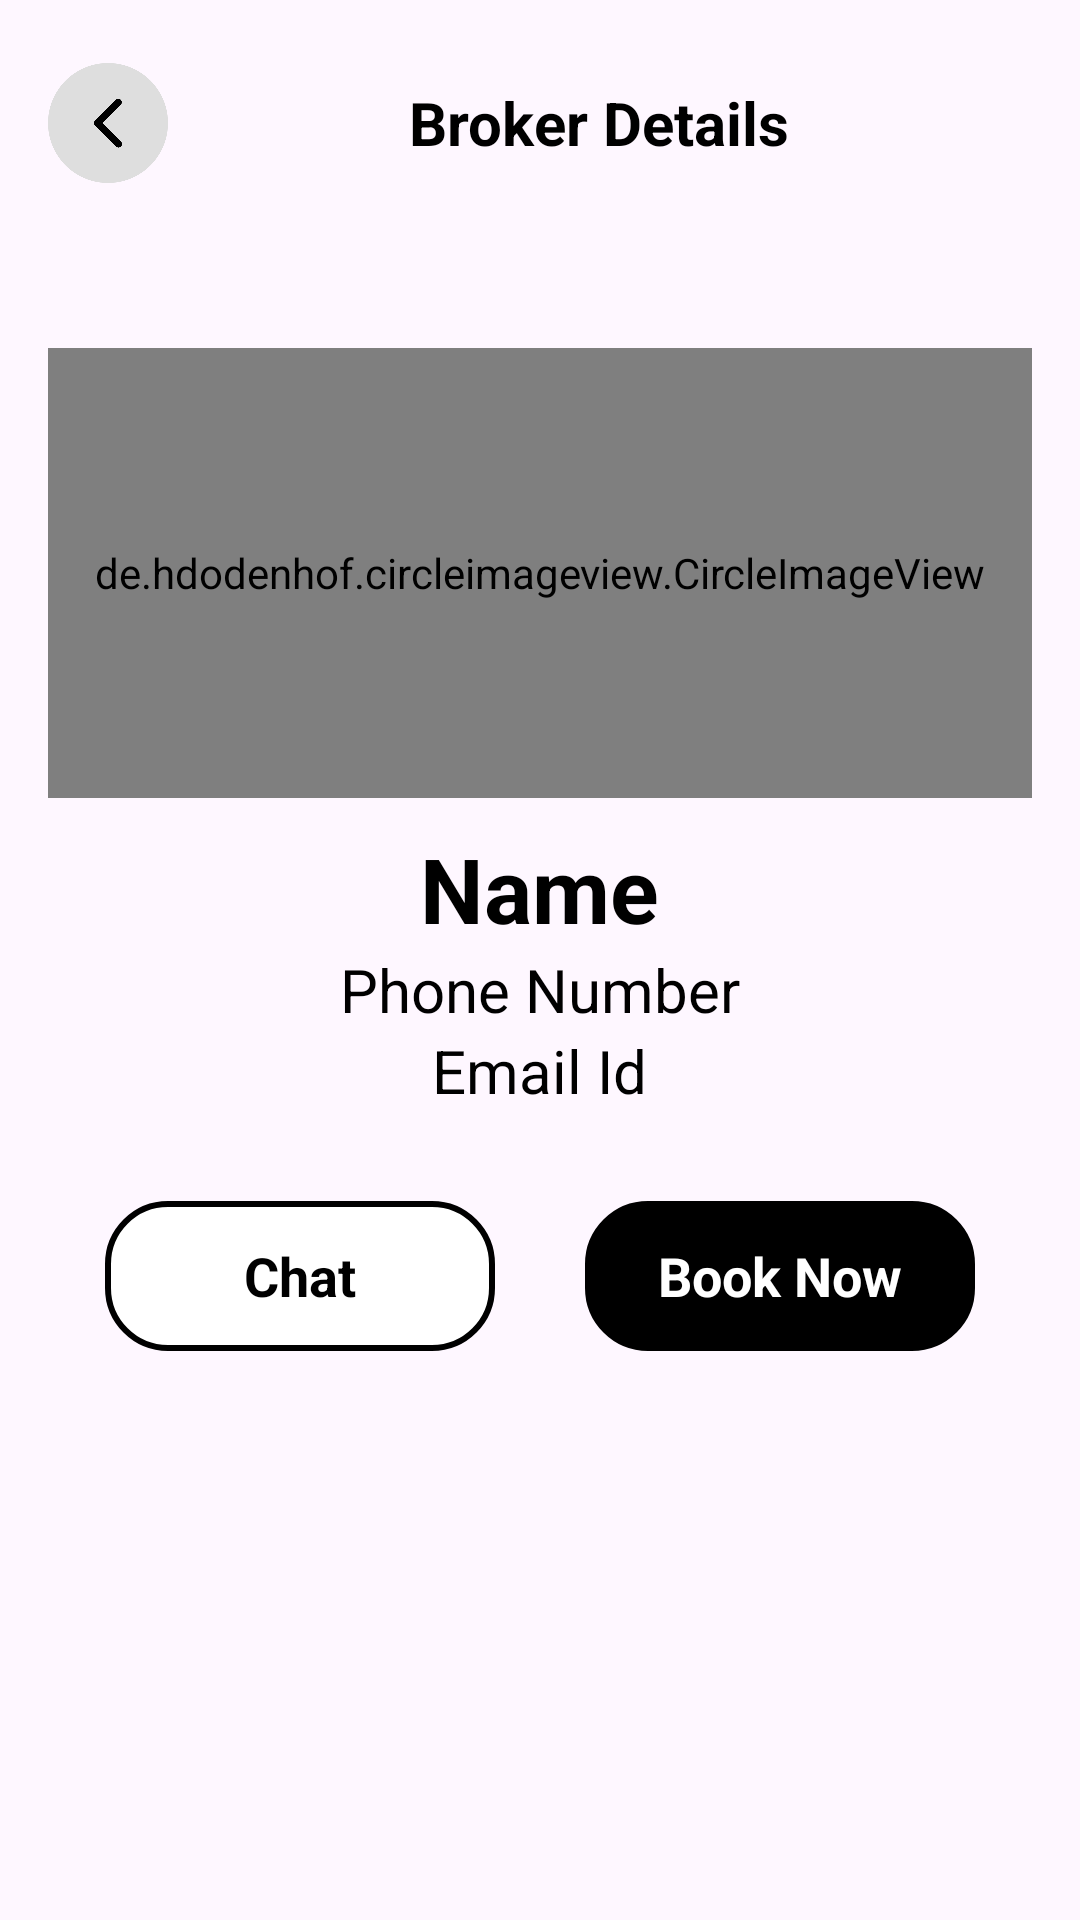

Icon bounding boxes for this 1080px×1920px phone screenshot, format (x1, y1, x2, y2):
lefttt: (48, 63, 168, 183)
